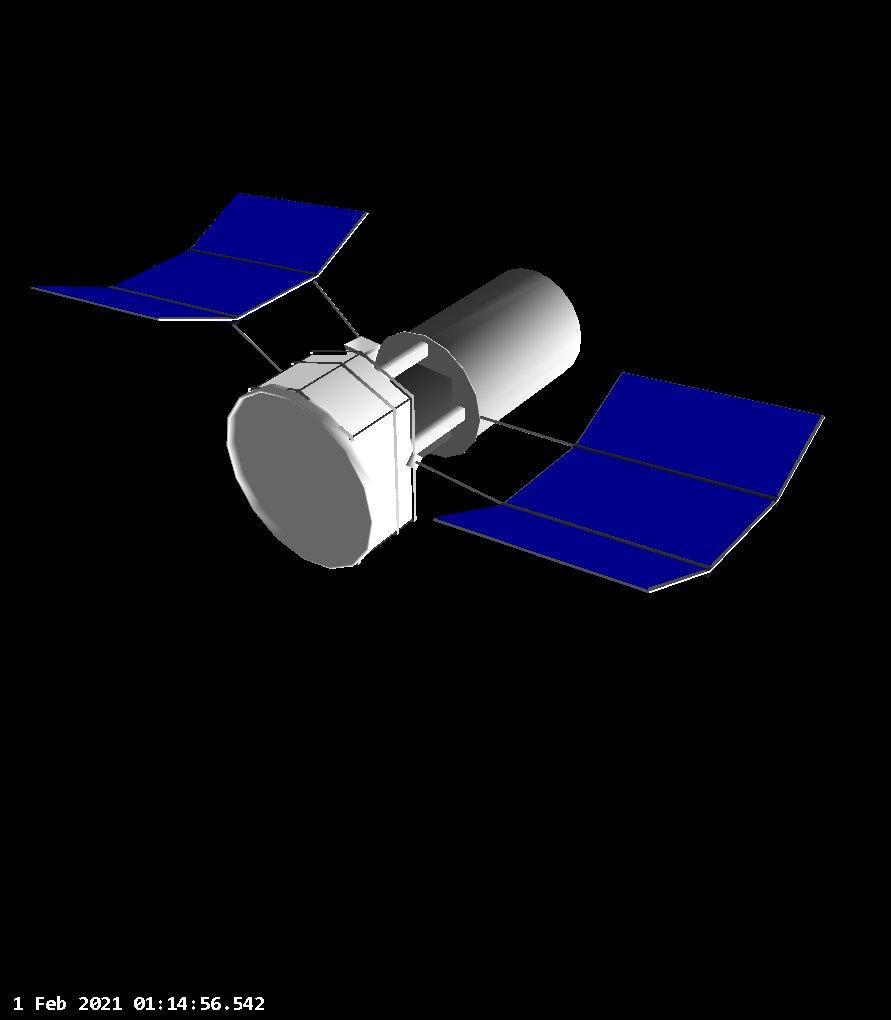body: (224, 260, 584, 571)
solar: (429, 367, 829, 593), (33, 187, 374, 328)
